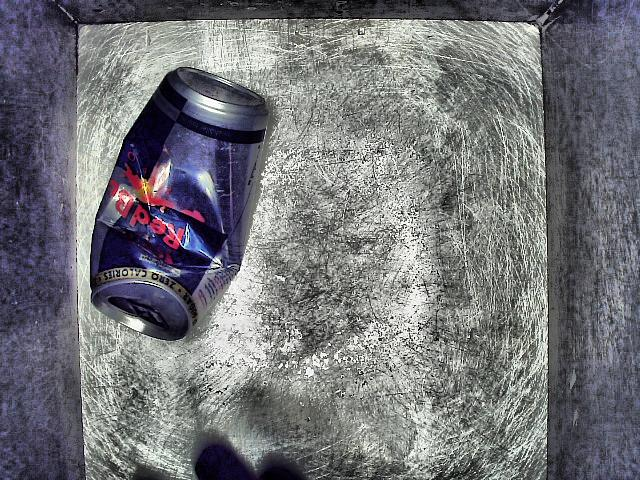Bottles: (75, 55, 292, 391)
